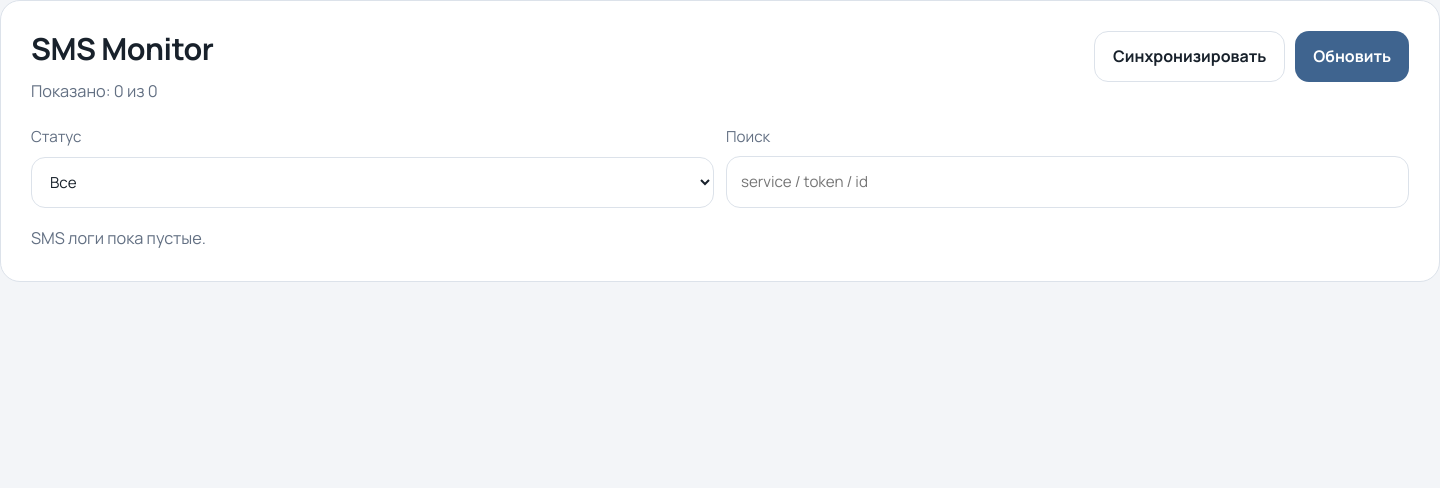
Test: AdminSmsView › syncs sms from provider and reloads logs
Click the button "Синхронизировать": (1190, 56) [1094,31,1285,82]
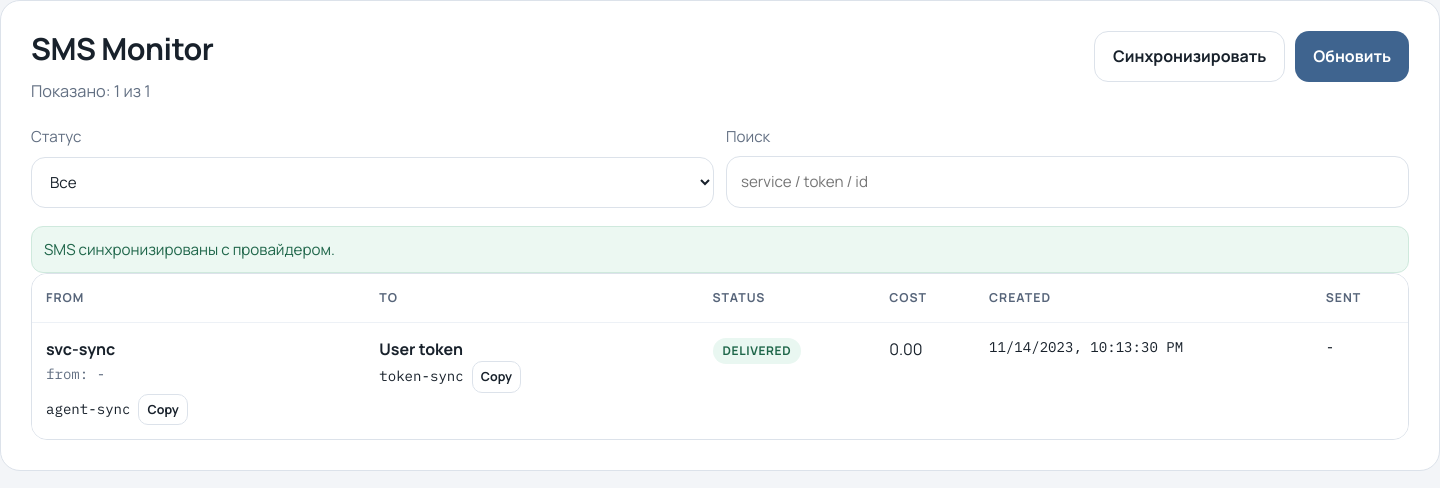
Now the text "SMS синхронизированы с провайдером" is shown, box [44,239,335,260]
